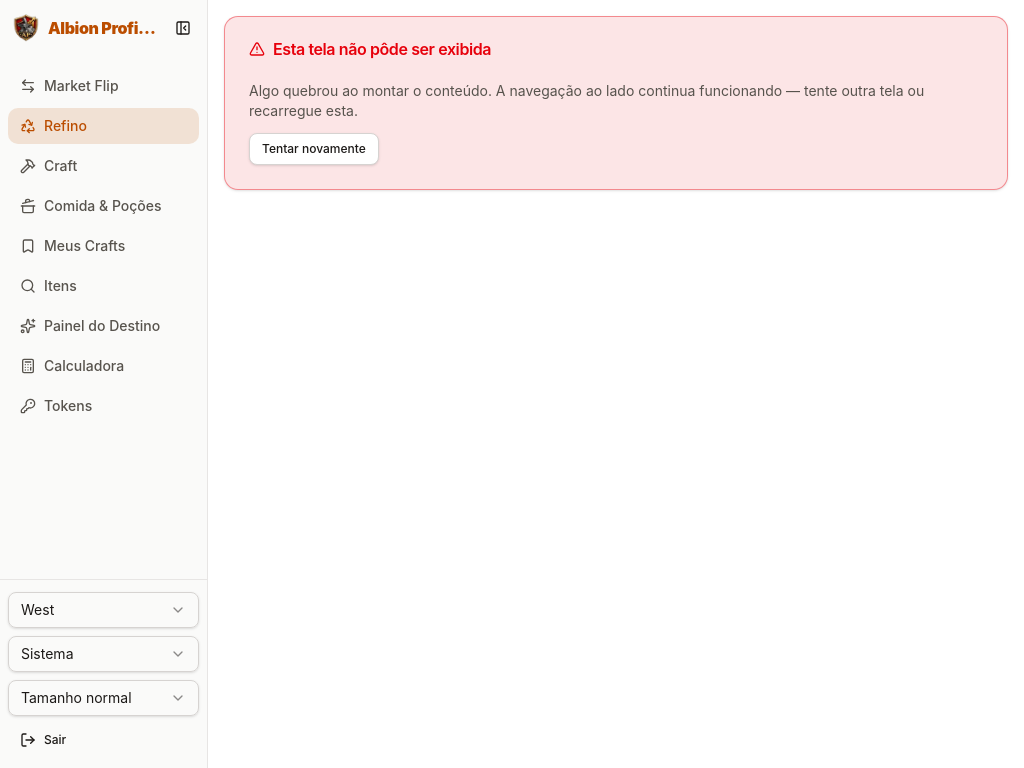
ErrorBoundary › navegar para outra rota limpa o erro sem precisar de F5
Expected: the text "Esta tela não pôde ser exibida" is shown, left=249, top=39, right=491, bottom=59
Click the link "Craft". click: point(49, 166)
box: left=20, top=157, right=77, bottom=174
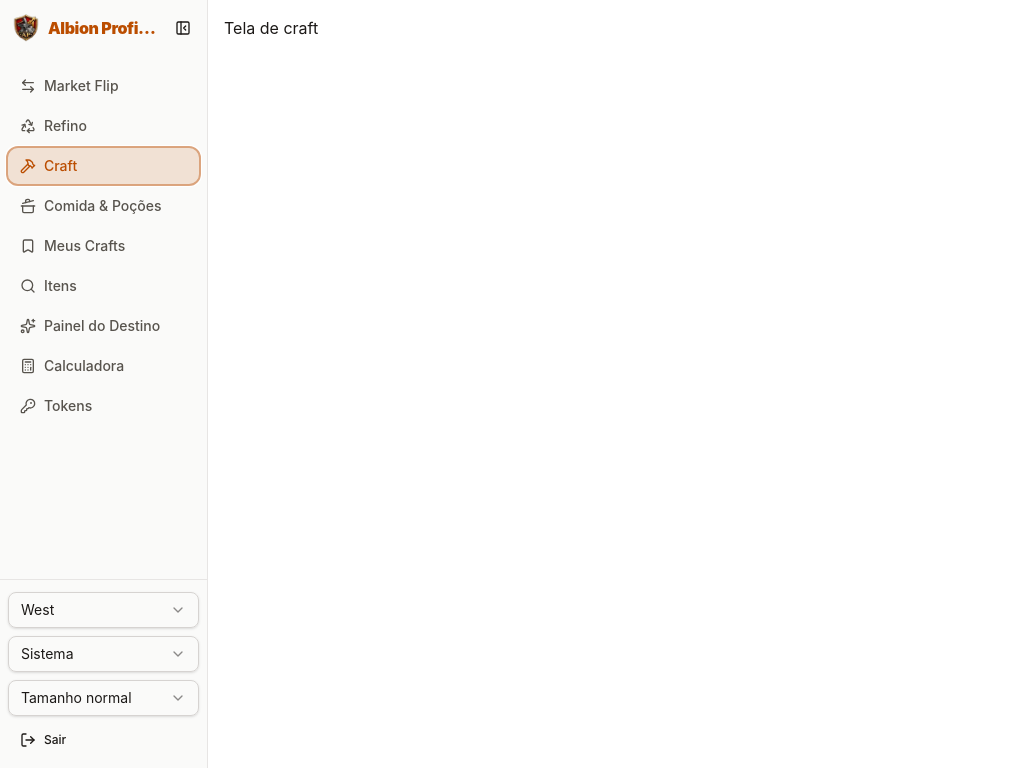
Expected: the text "Tela de craft" is shown, left=224, top=18, right=318, bottom=38
Expected: the text "Esta tela não pôde ser exibida" is gone
